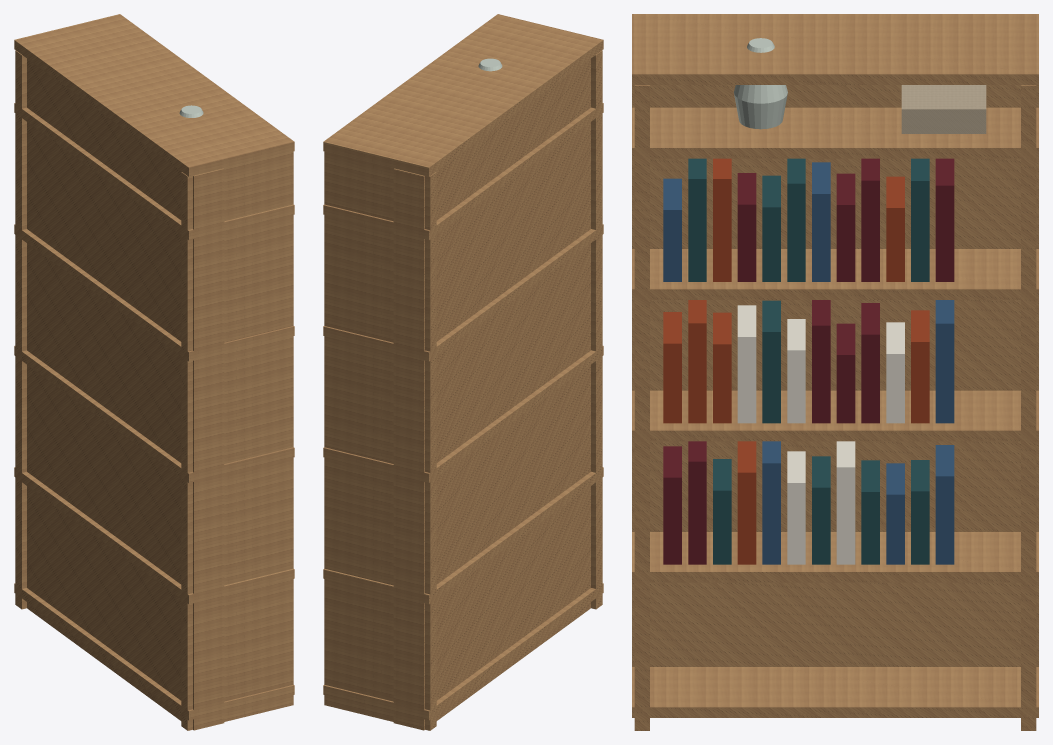
Rendered from bookcase.dae.
The picture shows the model from 3 angles, left to right: view 1: azimuth 30°, elevation 25°; view 2: azimuth 150°, elevation 25°; view 3: azimuth 270°, elevation 25°; orthographic projection. The views are drawn at different scales.
Visible parts, largest first — view 1: oak; view 2: oak; view 3: oak, burgundy, teal, terra, blue, white, linen, ceramic.
Part boxes in pixels (x1,y1,x2,y2): oak: (14, 14, 294, 730); oak: (323, 14, 603, 730); oak: (632, 14, 1038, 730); burgundy: (663, 158, 954, 564); teal: (688, 158, 929, 564); terra: (663, 158, 929, 564); blue: (663, 162, 954, 564); white: (737, 305, 904, 564); linen: (901, 85, 986, 133); ceramic: (733, 38, 787, 129).
Size of the model in its own units: 0.42 by 1.2 by 2.15.
Materials: 8 (2 with a texture image).
